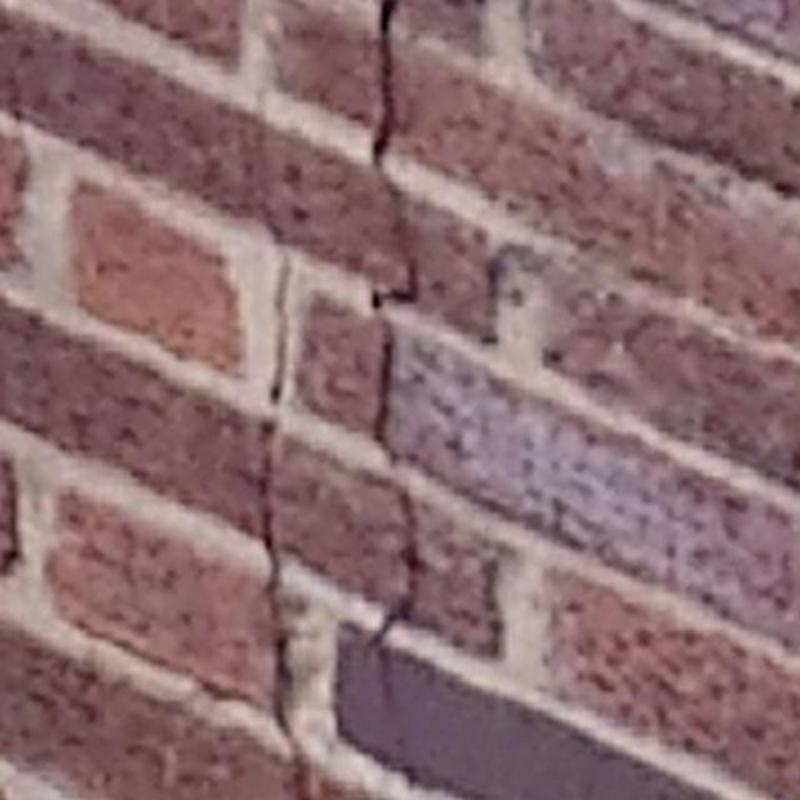pothole: (259, 420, 320, 799), (373, 488, 417, 698), (269, 221, 292, 404), (372, 0, 396, 166), (372, 258, 419, 309), (373, 327, 394, 441)
